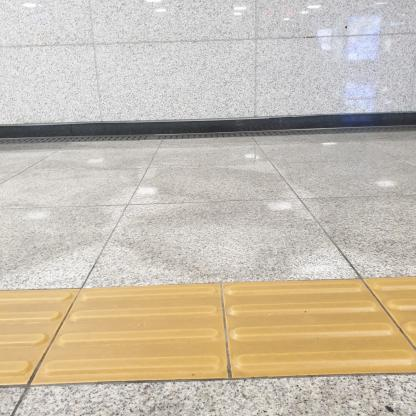go: (29, 282, 232, 384), (221, 279, 416, 378)
